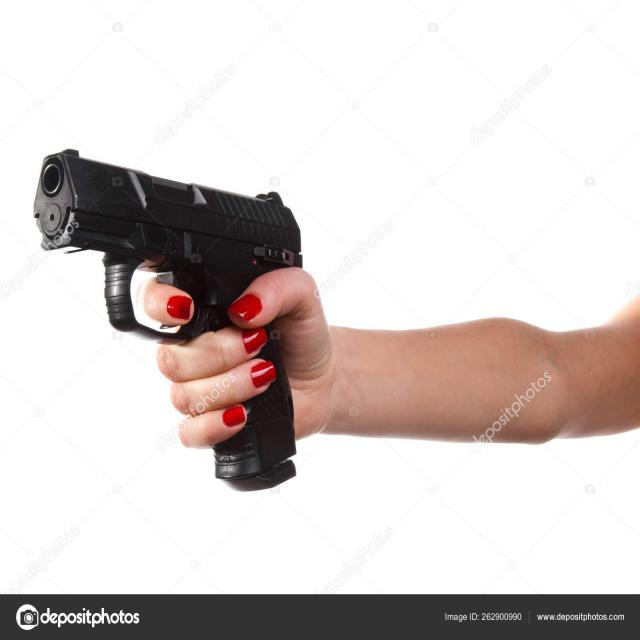HandGun: (34, 150, 304, 493)
